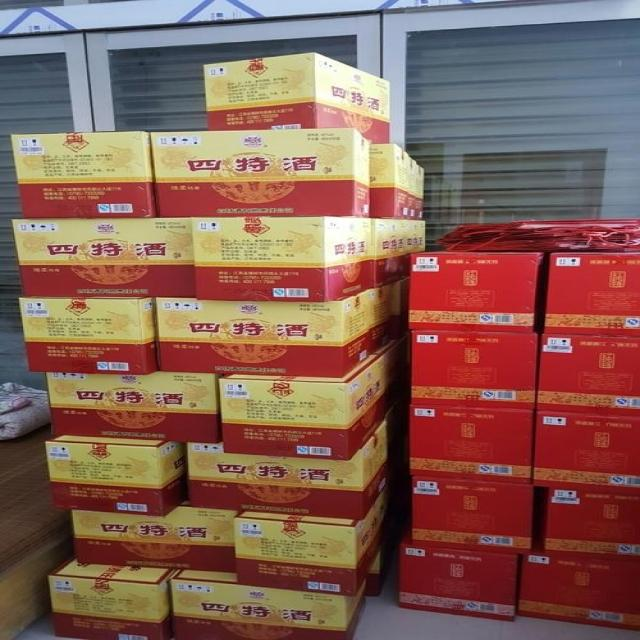box: (216, 334, 408, 458), (190, 408, 402, 520), (238, 466, 408, 595), (153, 285, 393, 375), (154, 129, 375, 217), (205, 52, 394, 145), (191, 218, 377, 300), (8, 217, 196, 298), (5, 440, 79, 639), (162, 568, 368, 635), (9, 130, 154, 219), (46, 373, 220, 444), (41, 436, 189, 517), (72, 501, 237, 569), (18, 298, 162, 375), (408, 253, 544, 334), (50, 562, 180, 639), (516, 550, 639, 631), (407, 332, 542, 405), (408, 474, 535, 551), (398, 541, 520, 621), (407, 403, 530, 482), (530, 406, 639, 491), (535, 332, 639, 414), (543, 251, 639, 335), (542, 483, 639, 558), (373, 147, 429, 217), (373, 217, 428, 286), (367, 541, 394, 598), (380, 277, 405, 337)
